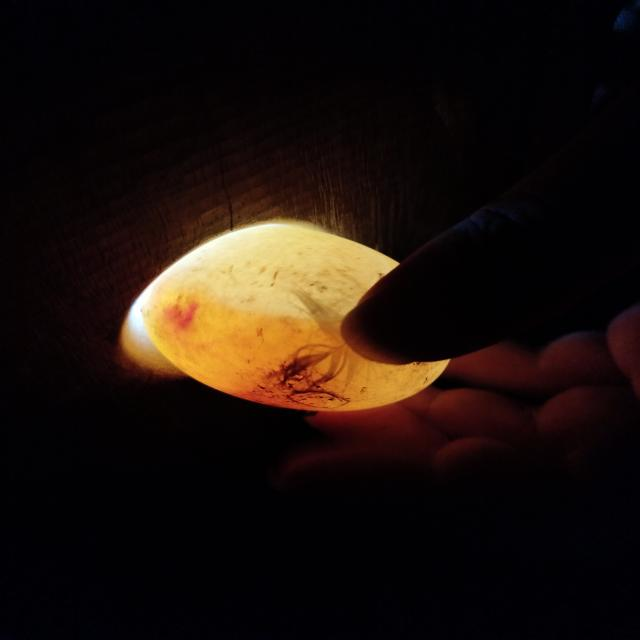Camara de Ar: (197, 225, 401, 320)
